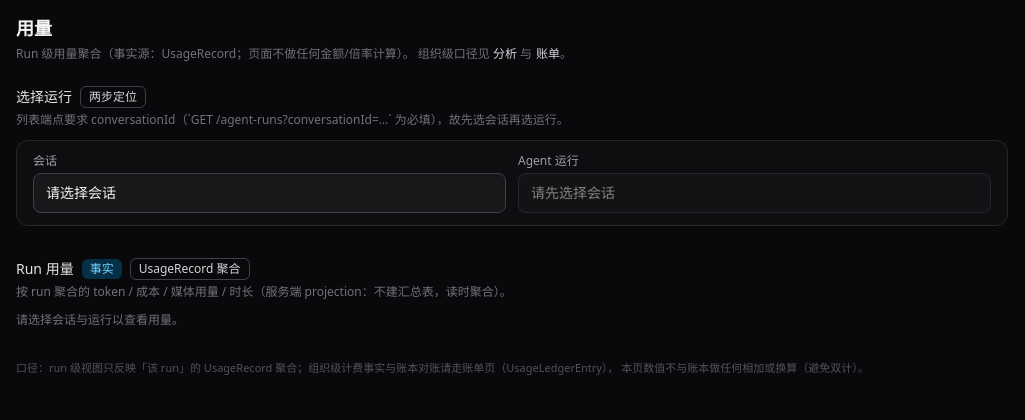
Usage 页面 · 空态 › 会话存在但该会话无运行：明确空态且不发 usage 请求
The width and height of the screenshot is (1025, 420).
expect the heading "用量" is shown: met, box [16, 16, 52, 40]
# 该会话无运行 → run 选择保持禁用（不能用 pickConversation 等待「启用」）
Step 1. Select "空会话 · 2026-09-29 11:20" in the dropdown labelled "会话" → [270, 193], box [33, 173, 506, 213]
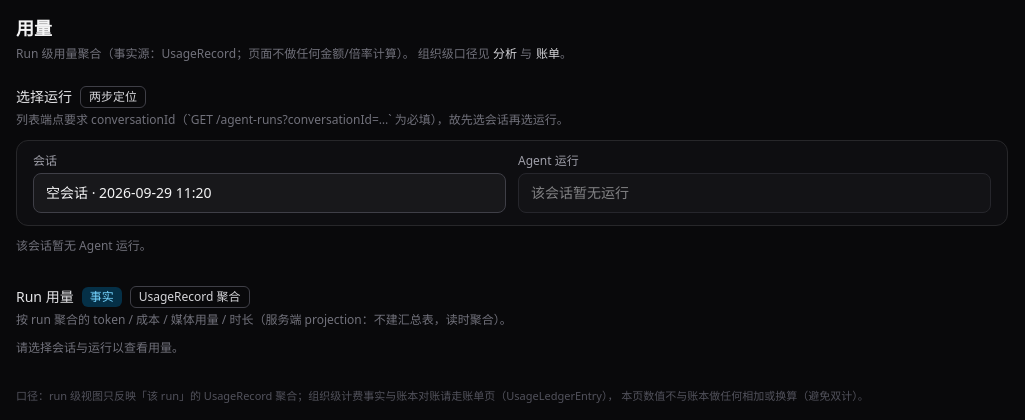
expect the text "请选择会话与运行以查看用量。" is shown: met, box [16, 339, 184, 356]
expect the text "该会话暂无 Agent 运行。" is shown: met, box [16, 237, 152, 254]
